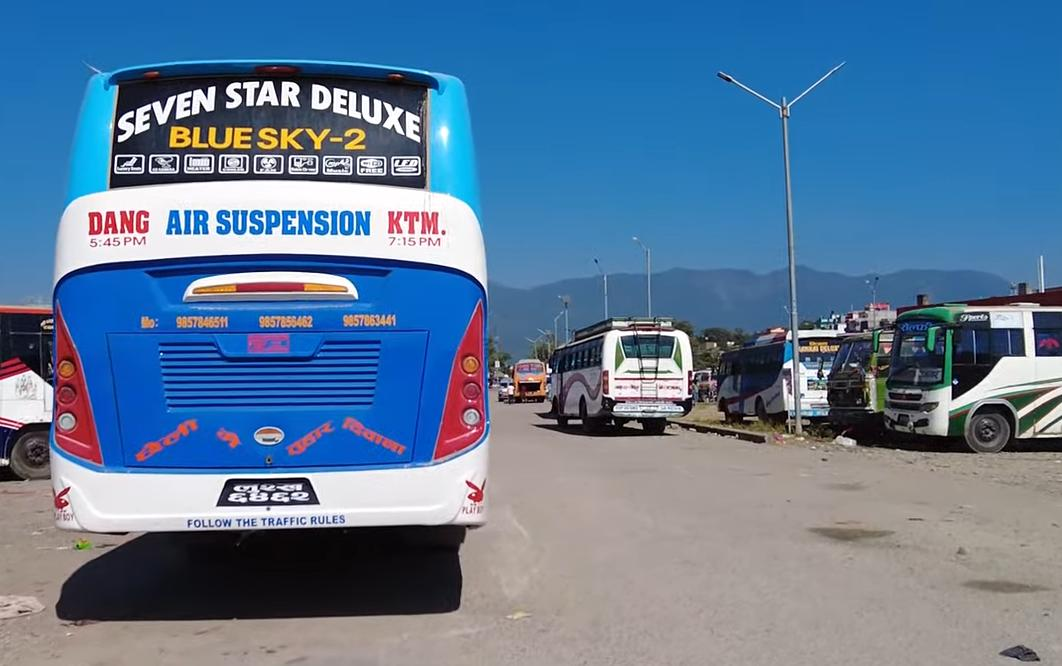bus: (47, 45, 497, 545), (879, 298, 1062, 458), (543, 305, 697, 436)
